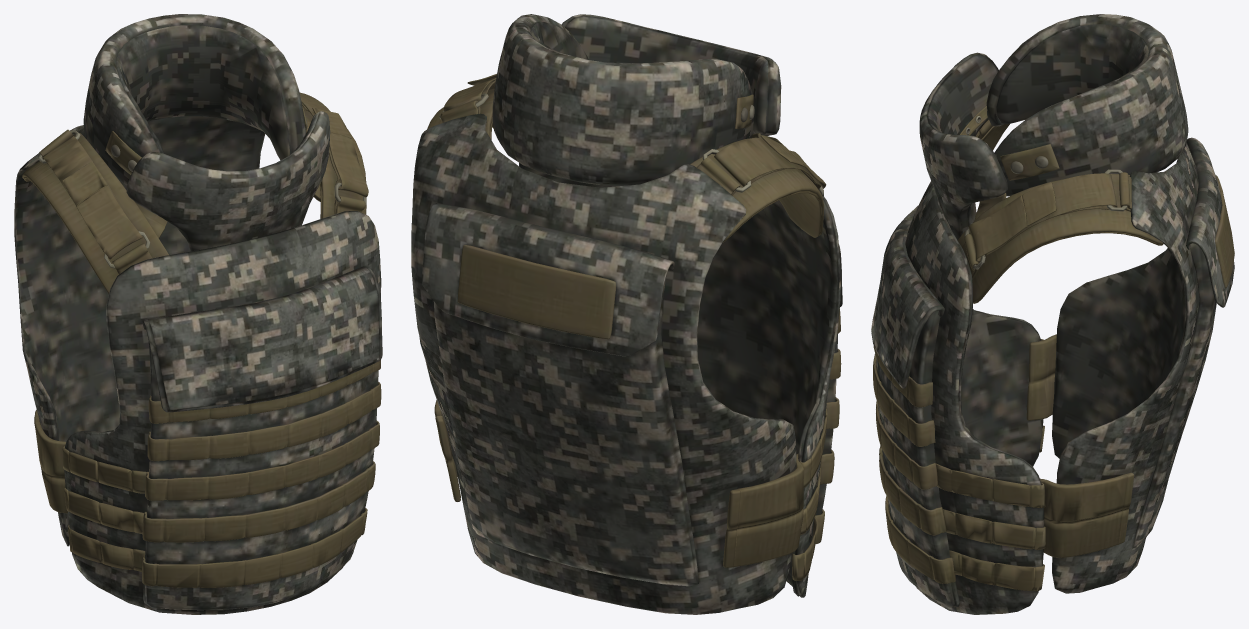
File: heavy_armor.glb
3 renders of one model, left to right at view 1: azimuth 30°, elevation 25°; view 2: azimuth 150°, elevation 25°; view 3: azimuth 270°, elevation 25°, orthographic. The views are drawn at different scales.
Parts seen in each view (by area): view 1: heavy_armor_0, heavy_armor_4, heavy_armor_1, heavy_armor_3, heavy_armor_5; view 2: heavy_armor_0, heavy_armor_5, heavy_armor_1, heavy_armor_4, heavy_armor_3; view 3: heavy_armor_0, heavy_armor_4, heavy_armor_1, heavy_armor_5, heavy_armor_3.
Boxes of the visible parts, <box> form: heavy_armor_0: <box>14,116,381,614</box>; heavy_armor_4: <box>22,92,381,587</box>; heavy_armor_1: <box>83,14,330,251</box>; heavy_armor_3: <box>142,266,382,412</box>; heavy_armor_5: <box>143,341,378,610</box>; heavy_armor_0: <box>411,113,841,614</box>; heavy_armor_5: <box>433,276,837,586</box>; heavy_armor_1: <box>492,14,781,185</box>; heavy_armor_4: <box>427,74,841,580</box>; heavy_armor_3: <box>422,203,842,356</box>; heavy_armor_0: <box>905,142,1199,614</box>; heavy_armor_4: <box>873,106,1234,591</box>; heavy_armor_1: <box>919,14,1188,239</box>; heavy_armor_5: <box>876,243,1216,607</box>; heavy_armor_3: <box>871,137,1234,388</box>.
Bounding box in the file's own units: 0.3806 × 0.6 × 0.3782.
Materials: 7 (7 with a texture image).
